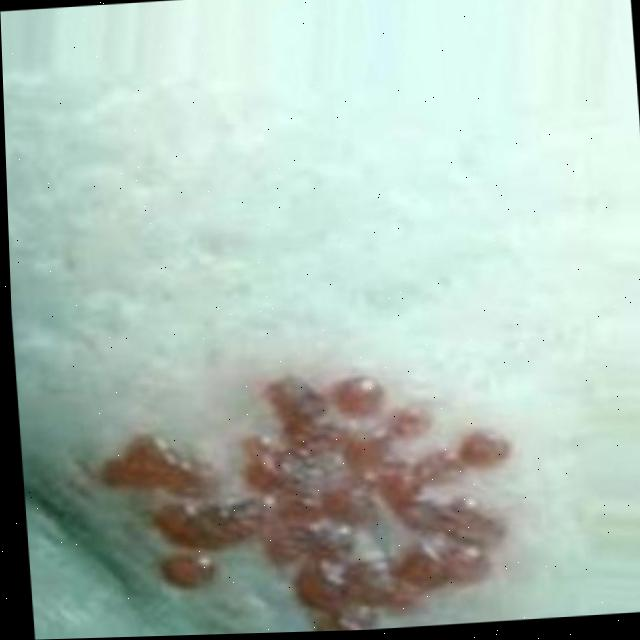Shingles: (101, 354, 525, 637)
